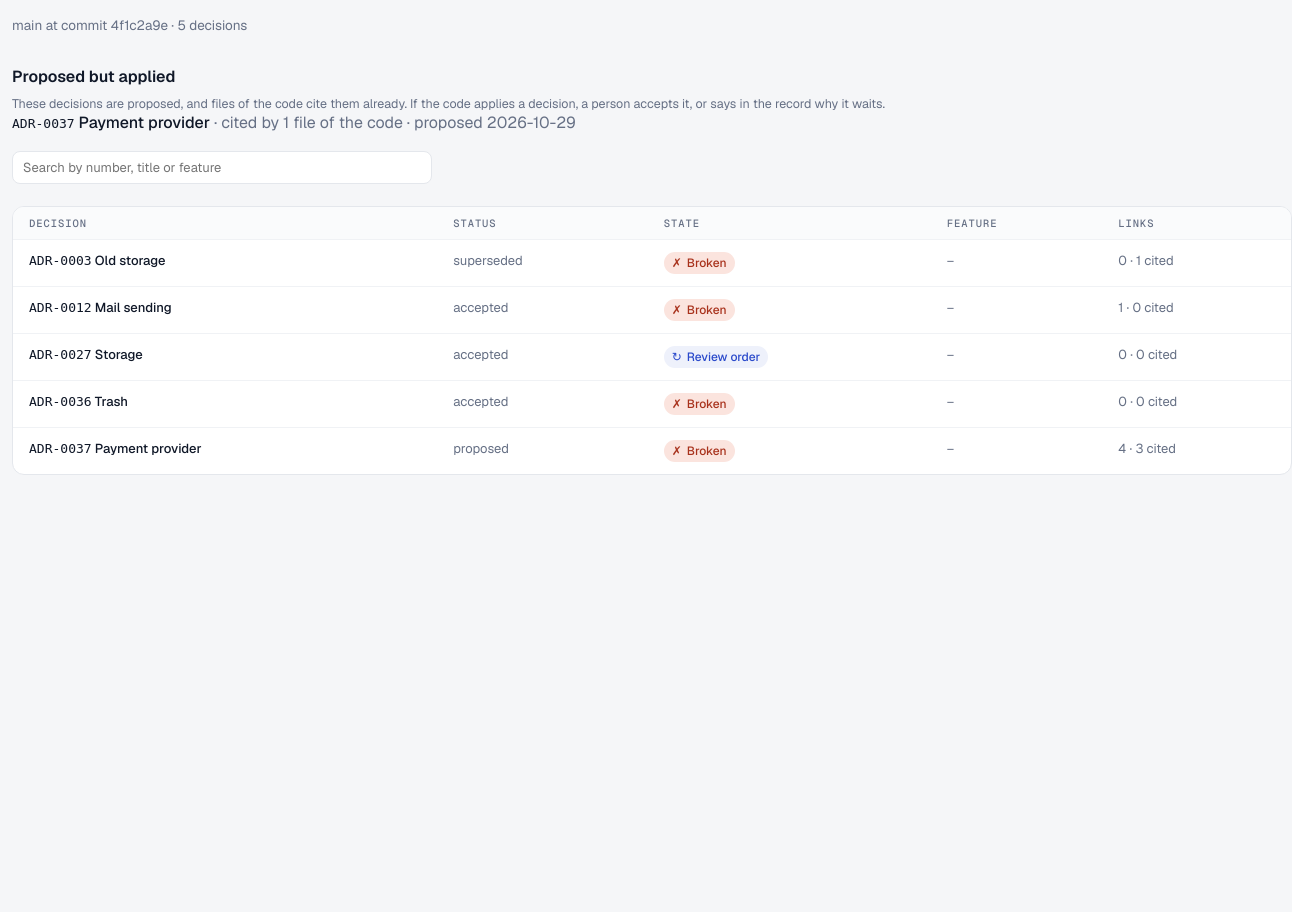
DecisionsView › lists the proposed decisions that the code cites, and says it on their page
Expected: the number of list items is 1, left=12, top=112, right=576, bottom=133
Expected: the text "· cited by 1 file of the code · proposed 2026-10-29" is shown, left=210, top=112, right=576, bottom=133
Click the button "ADR-0037 Payment provider" next to "· cited by". click: (111, 122)
box: left=12, top=112, right=210, bottom=133
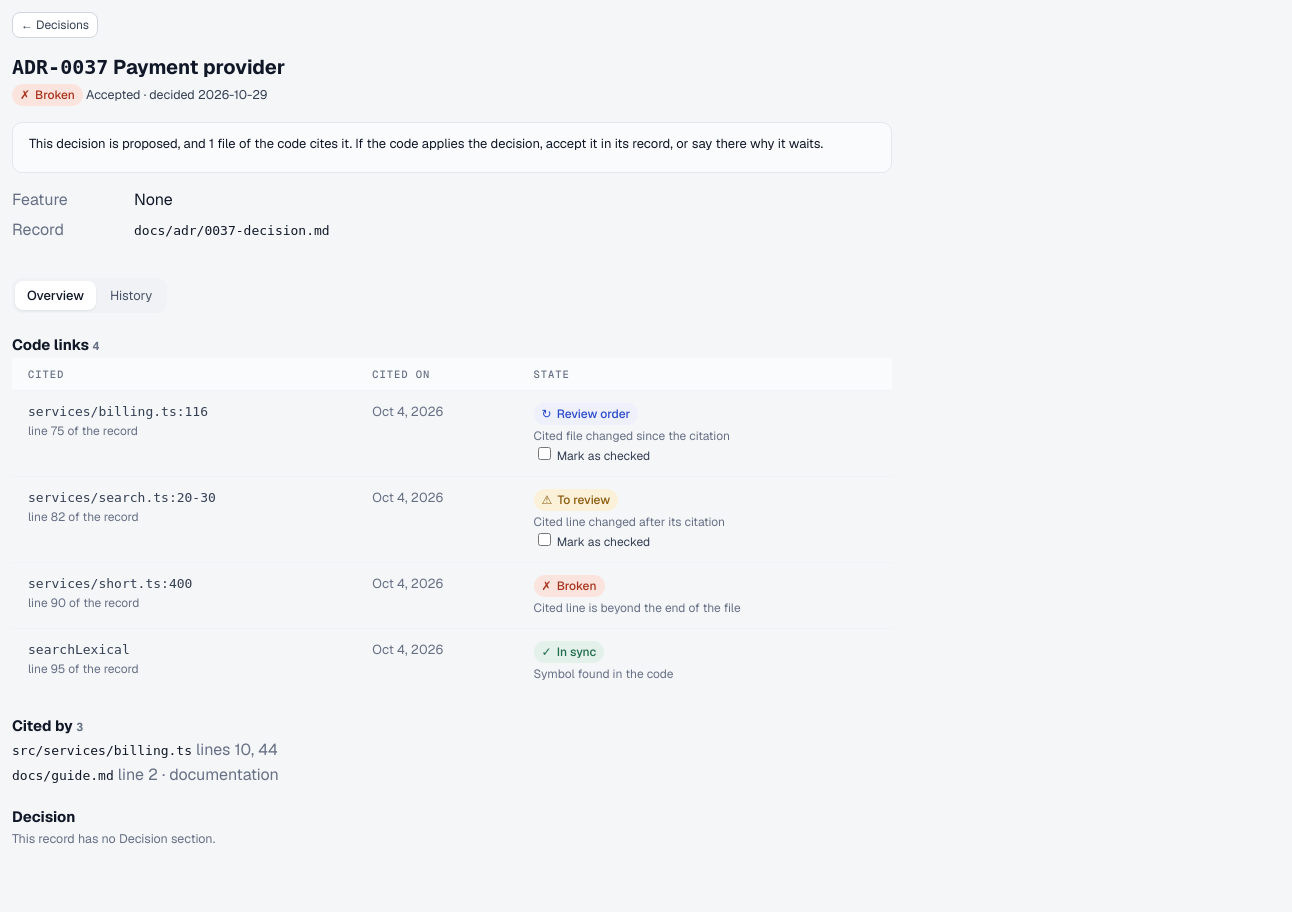
Expected: the text "This decision is proposed, and 1 file of the code cites it" is shown, left=29, top=135, right=875, bottom=152
